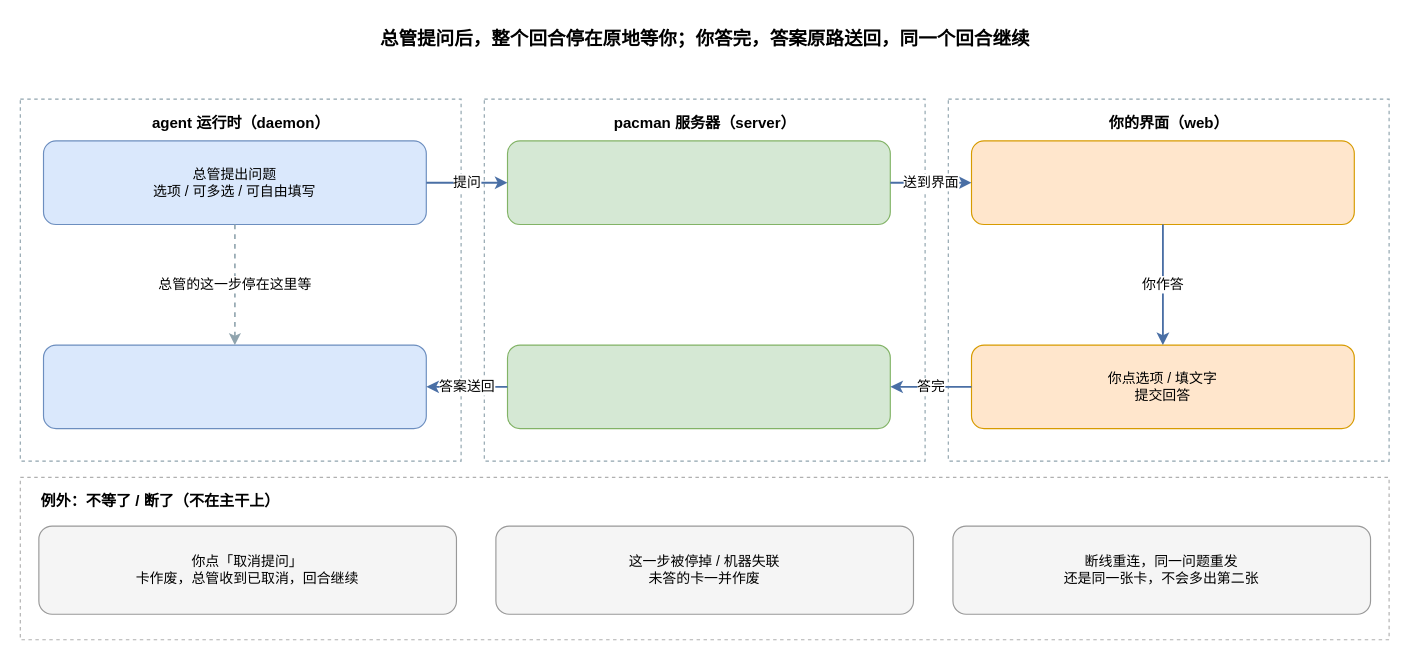
Some shapes in this 1409 by 660 pixel diagram are drawn without their labels. The centre of each missing label's shape, as x and y in pixels:
"总管拿到答案 同一个回合继续" goes at point (234, 386).
"答案记进这张卡 送回总管" goes at point (698, 386).
"问答卡出现在总管抽屉 带未读提醒" goes at point (1162, 182).
"问题登记成一张待答的卡 没人答就一直等，不替你选" goes at point (698, 182).
